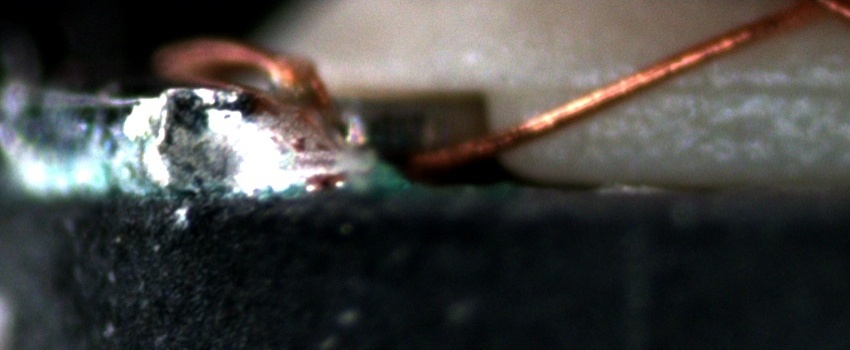DL: (575, 52, 850, 111)
TE: (148, 33, 341, 117)
